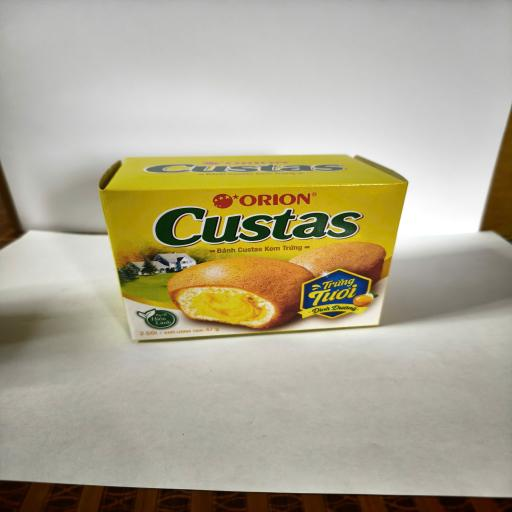custas: (98, 155, 409, 342)
